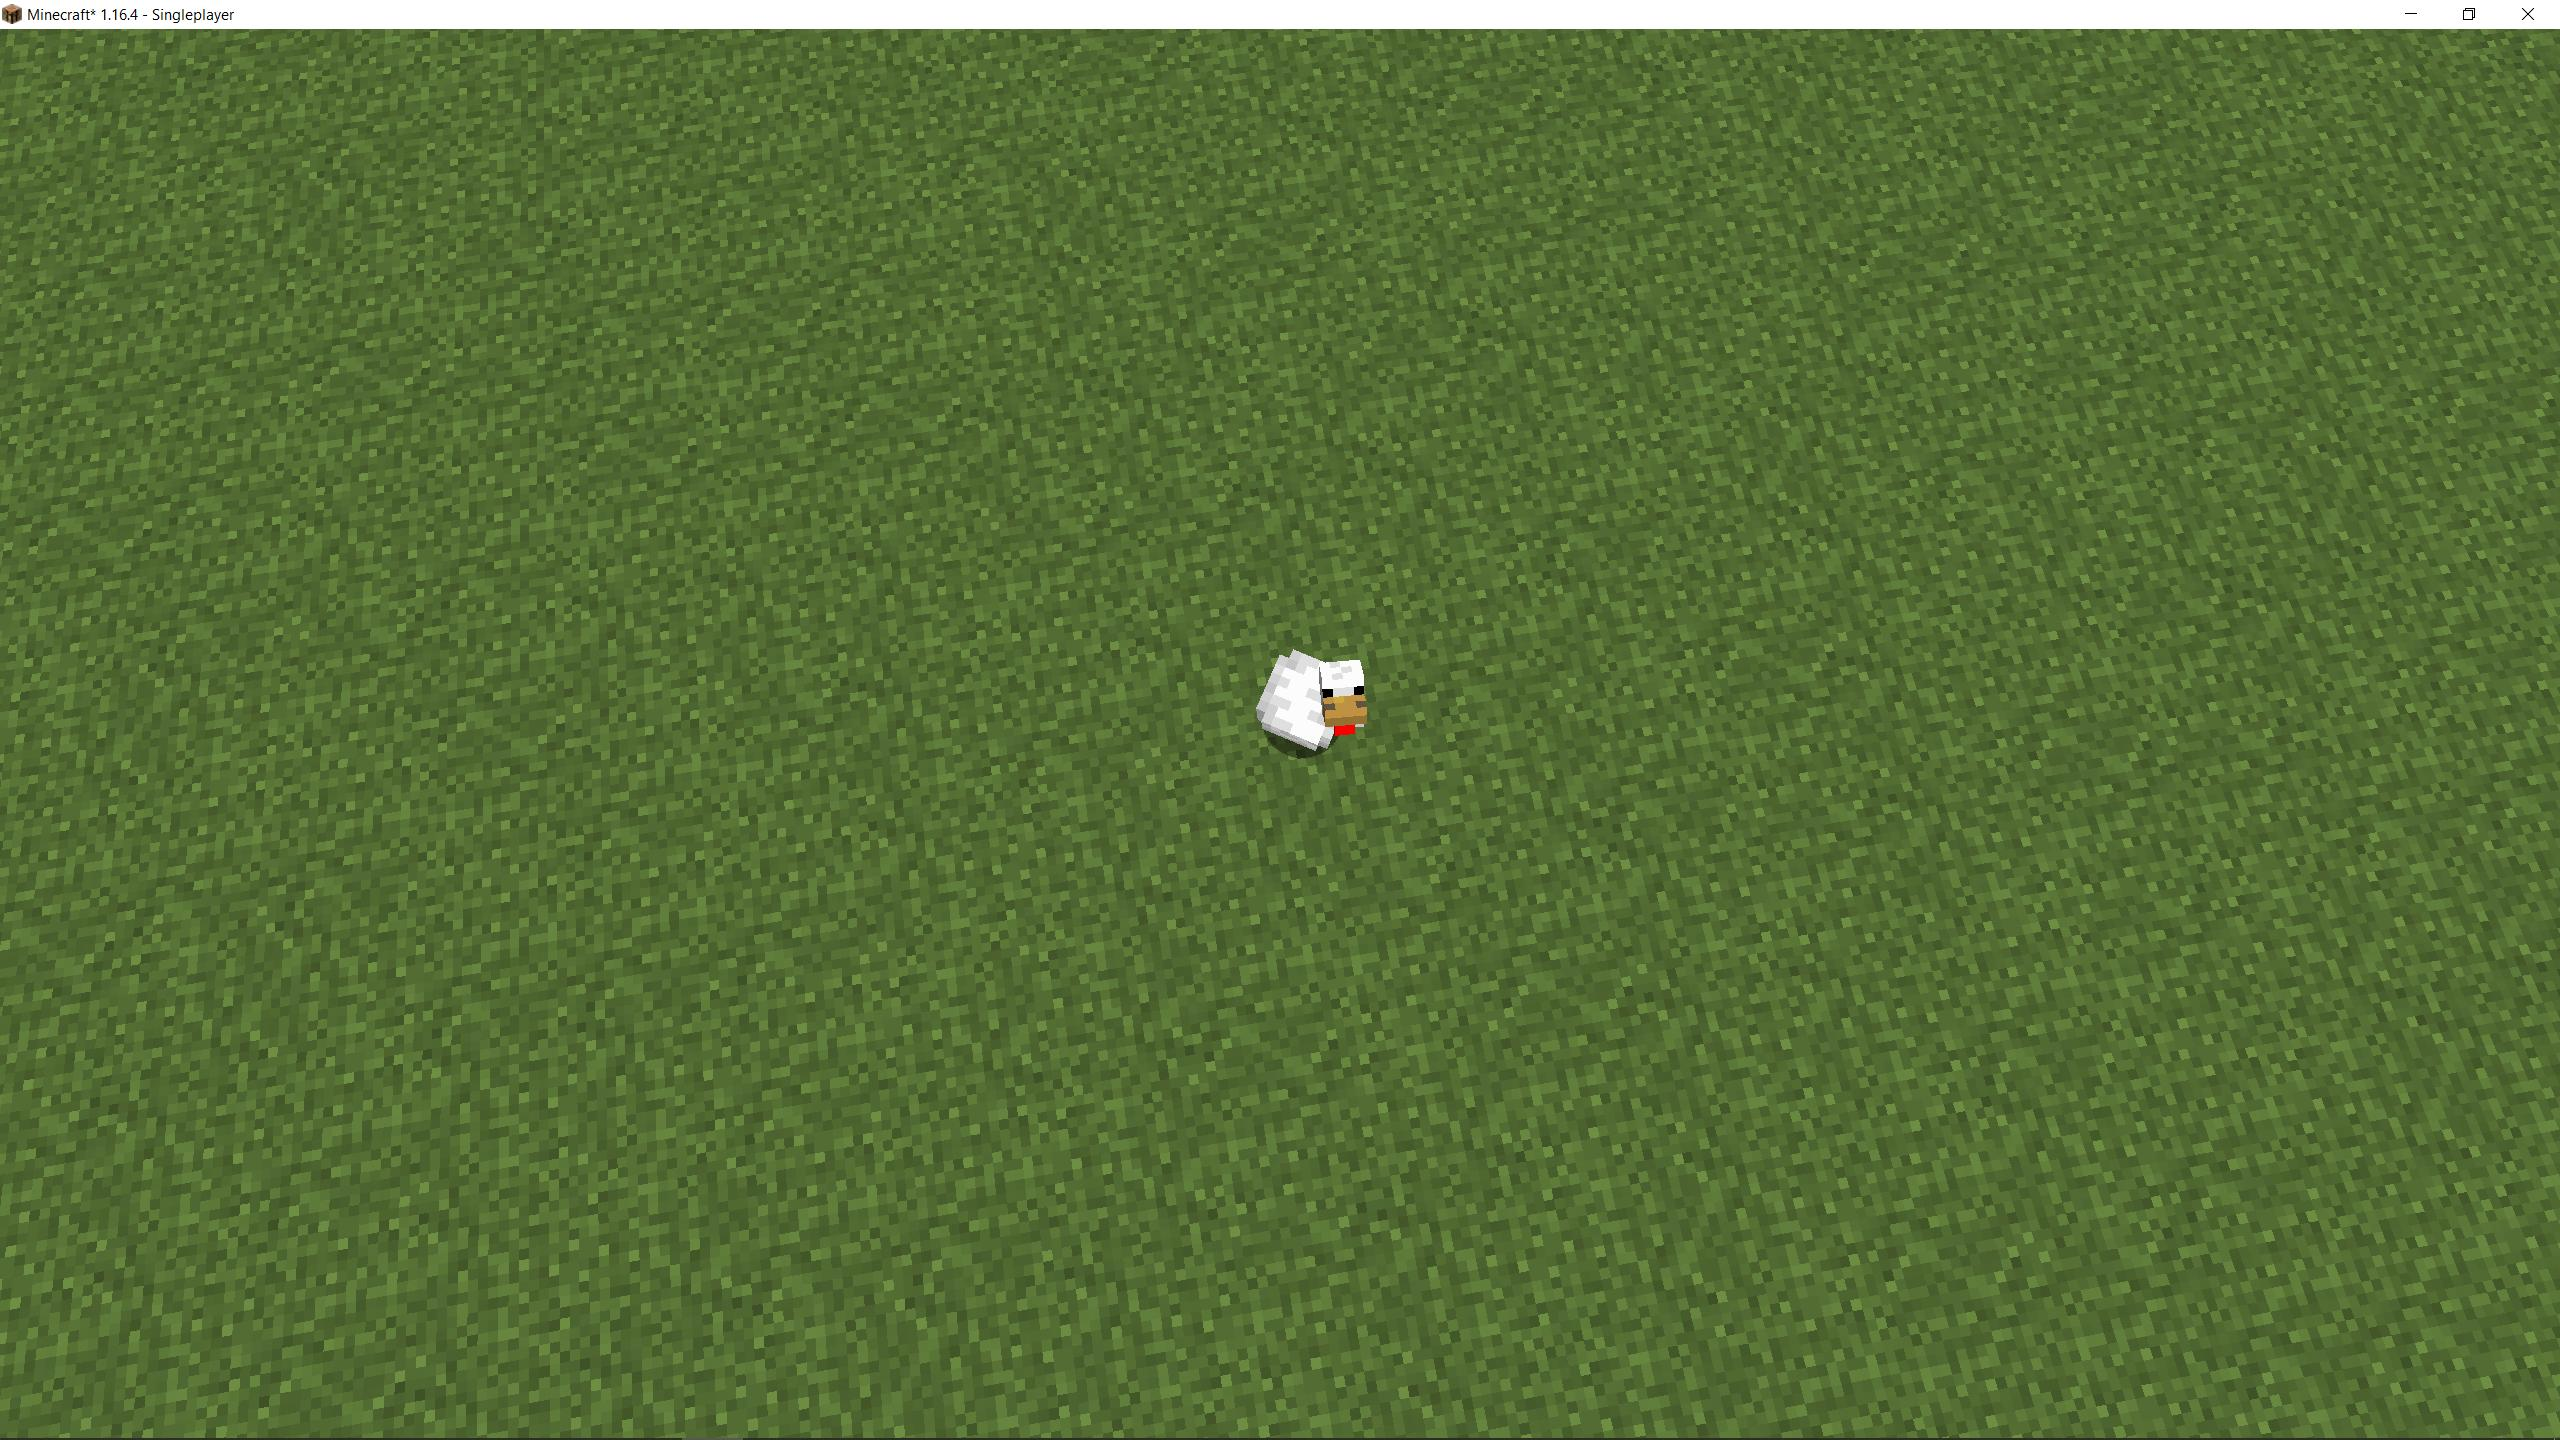chicken: (1234, 638, 1378, 767)
